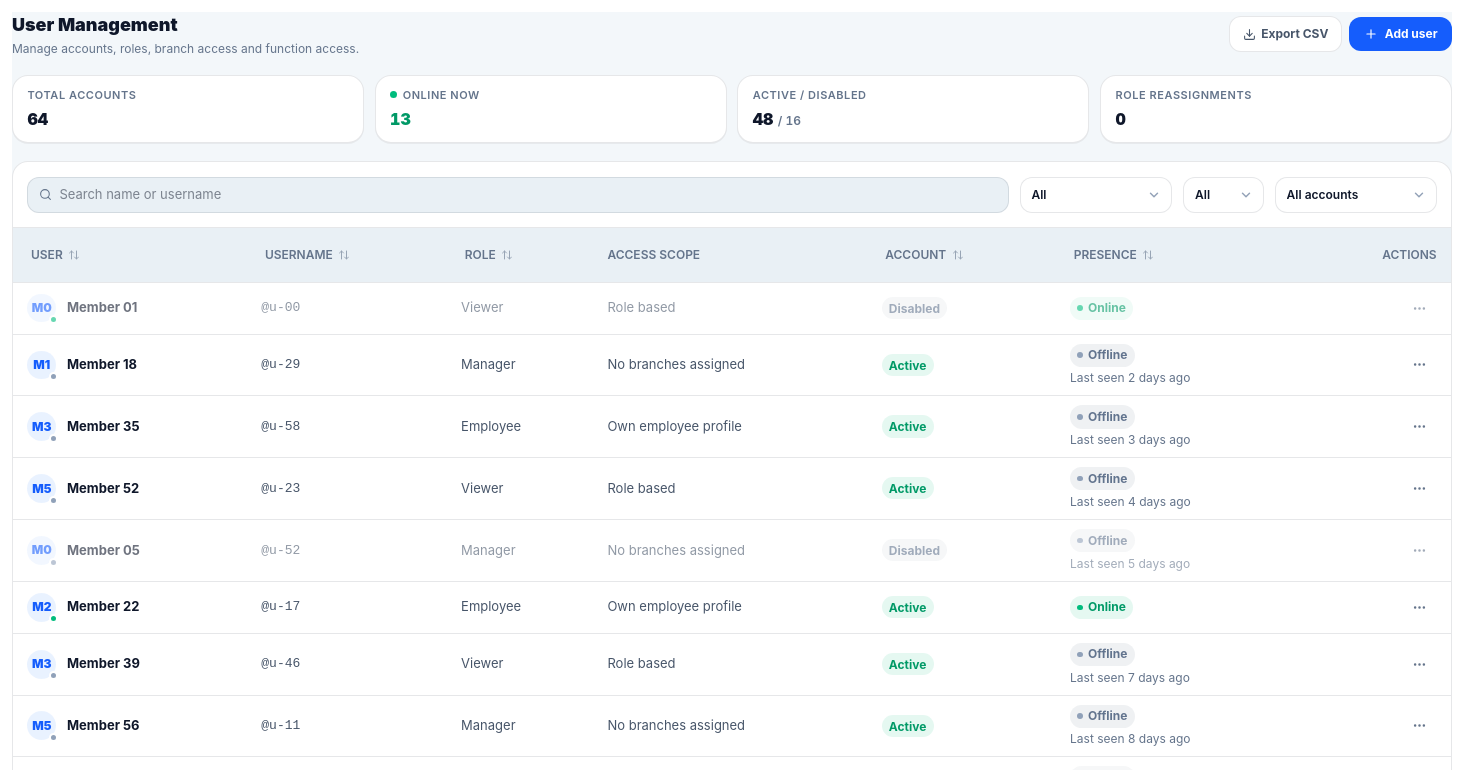
Scenario: Users paging resets › keeps Actions working on a sorted page
This screenshot has width=1464, height=770.
Click the button "User" at point(56, 255), box x1=27 y1=239 x2=84 y2=271
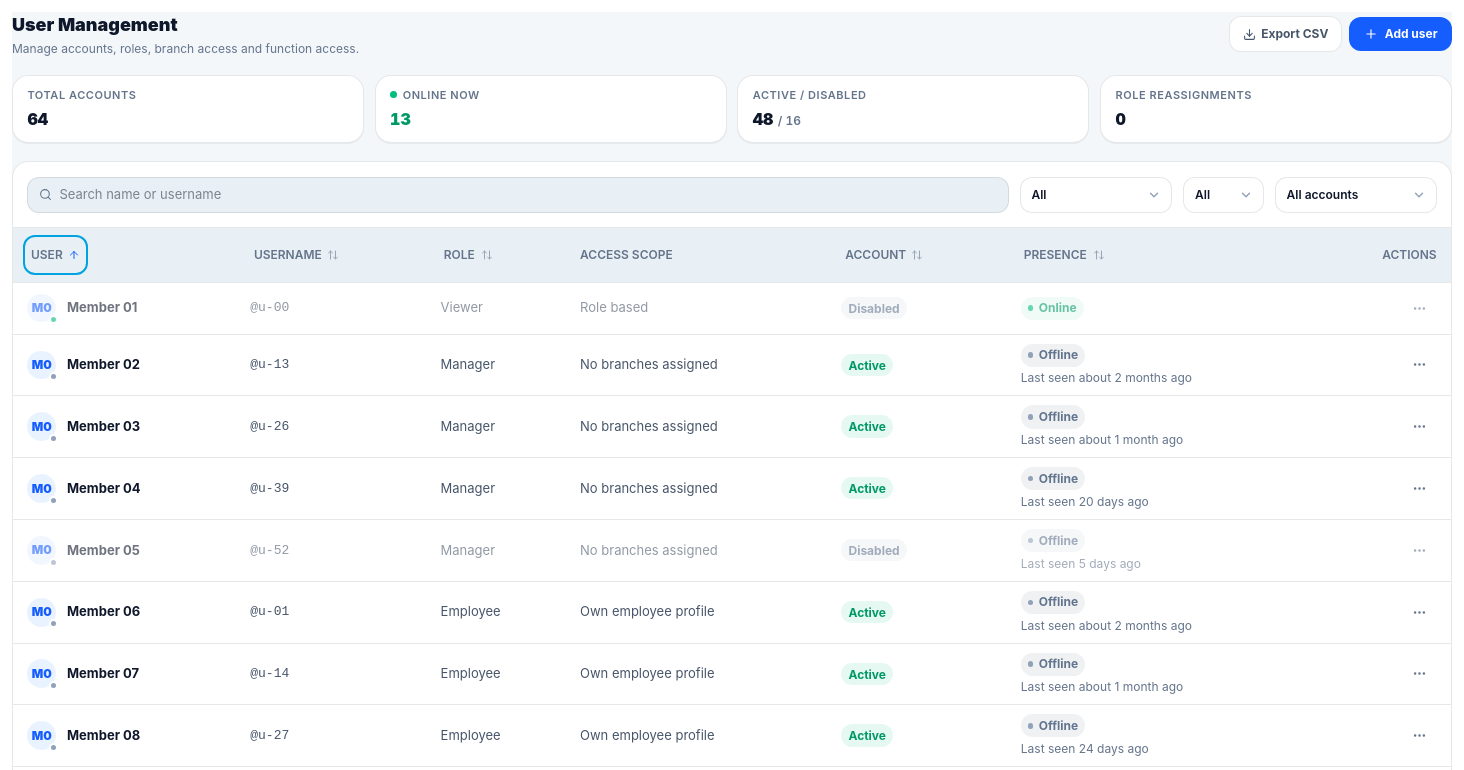
Click the button named "Actions for Member 01" at point(1421, 308), box x1=1405 y1=292 x2=1437 y2=324
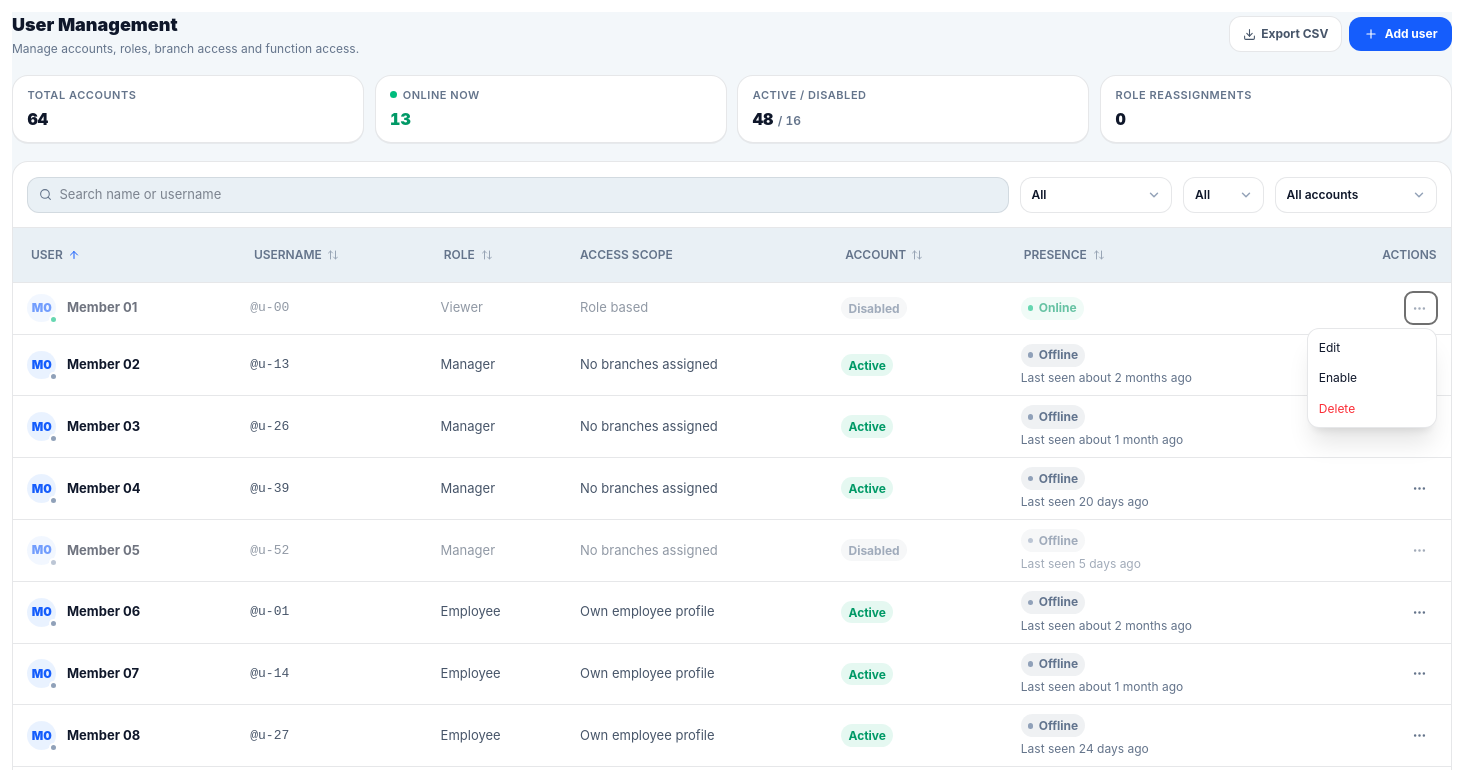
Expected: the element named "User actions" is shown, x1=1307 y1=328 x2=1437 y2=428
